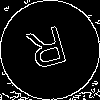R: (25, 25, 72, 79)
